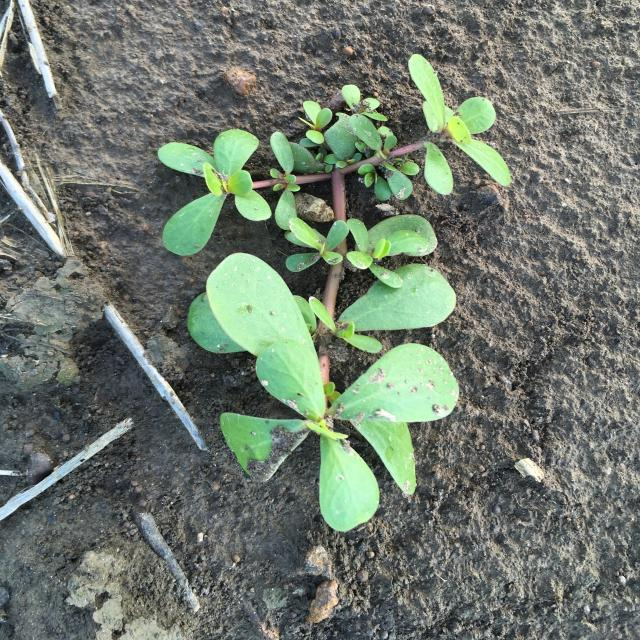Purslane: (158, 54, 511, 532)
